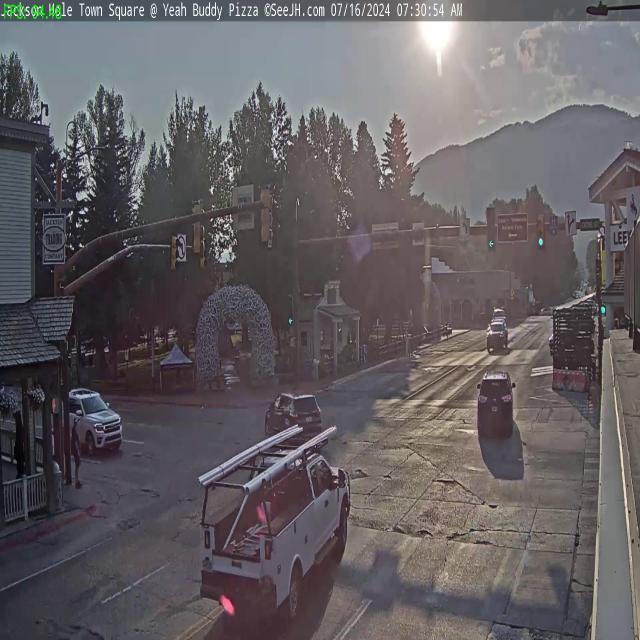person: (70, 412, 86, 489)
suv: (62, 391, 125, 458), (262, 384, 321, 439), (476, 368, 516, 440), (486, 316, 508, 351)
traffic light: (260, 182, 273, 245), (190, 200, 203, 256), (486, 206, 496, 250), (170, 233, 179, 272), (536, 214, 546, 248)
truck: (196, 423, 354, 638)
